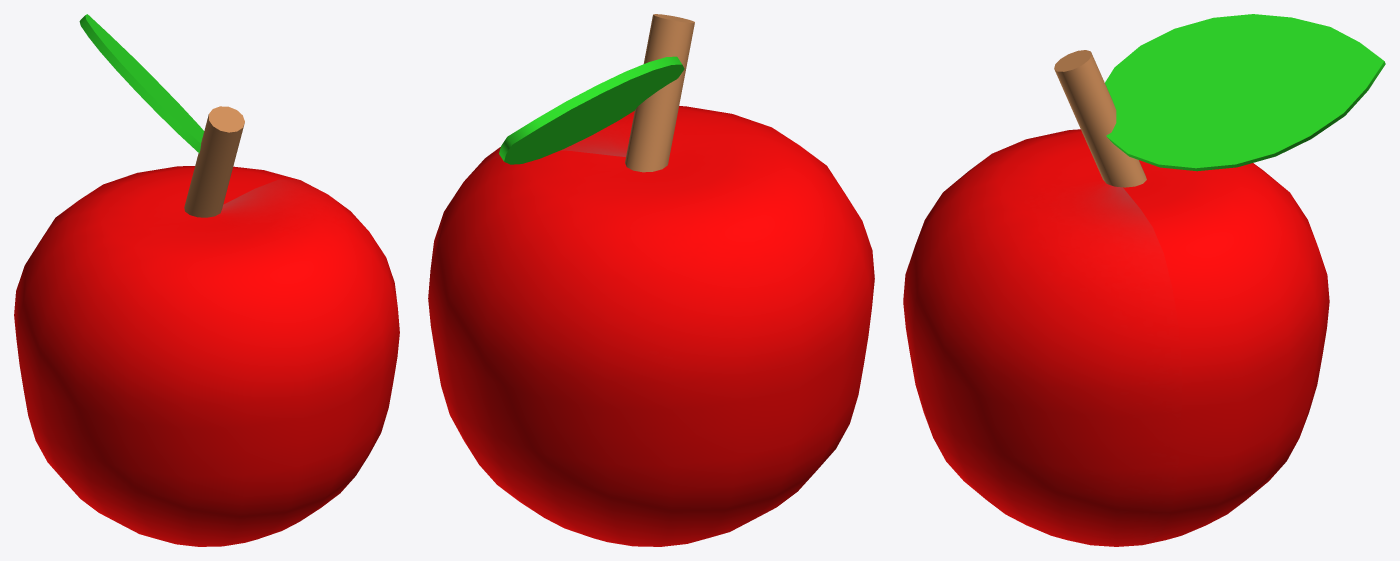
Rendered from Apple.fbx.
The picture shows the model from 3 angles, left to right: view 1: azimuth 30°, elevation 25°; view 2: azimuth 150°, elevation 25°; view 3: azimuth 270°, elevation 25°; orthographic projection. The views are drawn at different scales.
Parts seen in each view (by area): view 1: pSphere2; view 2: pSphere2; view 3: pSphere2.
Boxes of the visible parts, x1,y1,x2,y2 form: pSphere2: (14,14,399,546); pSphere2: (428,14,874,546); pSphere2: (903,14,1385,546).
Size of the model in its own units: 0.9238 by 1.18 by 1.05.
Materials: 1 (1 with a texture image).
